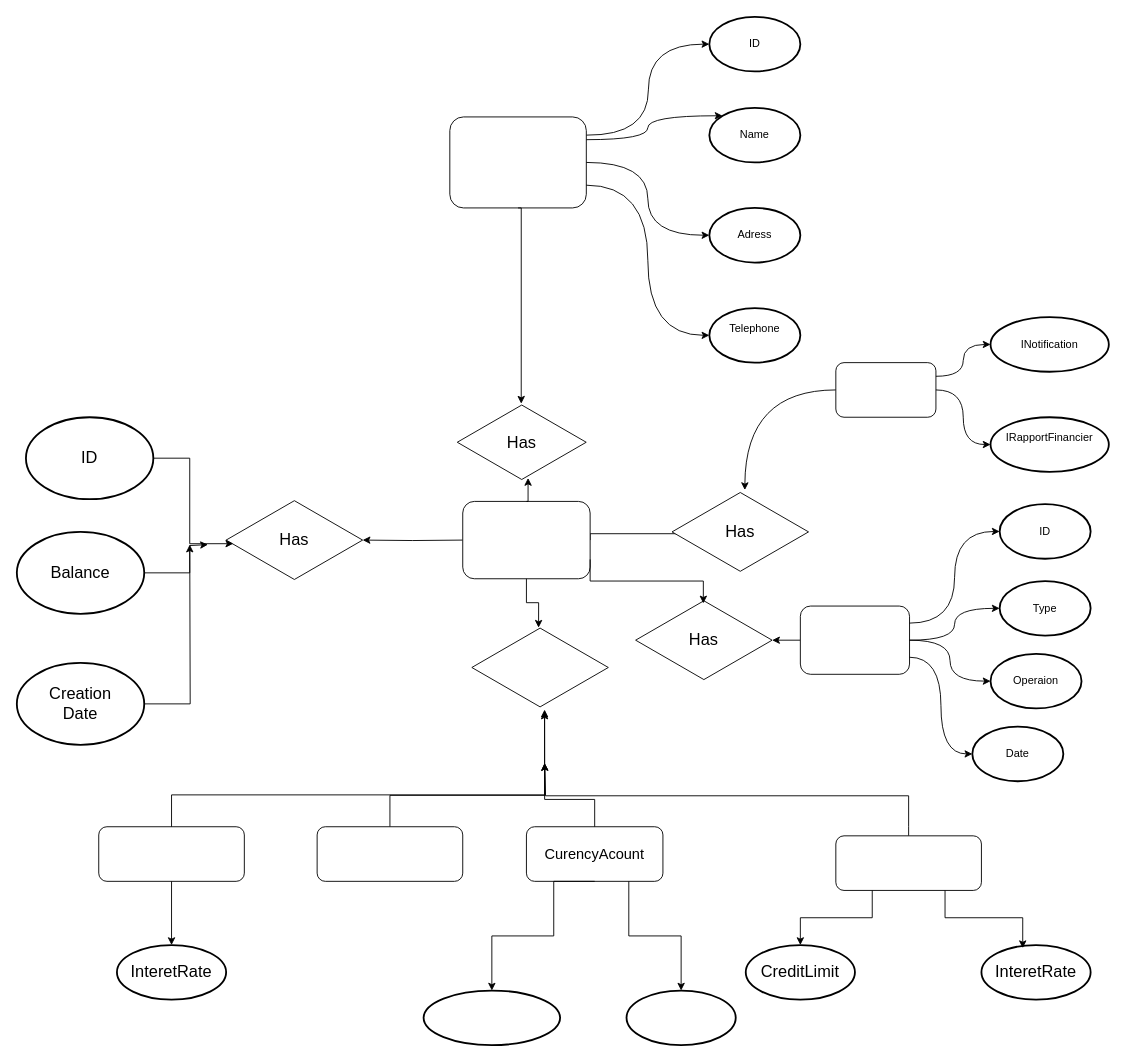
This 1125x1061 diagram has some shape labels left out. The shapes that lost their labels are listed below. From the top down, each one's centre as x and y in pixels, then its label:
the point at 517,162: Customer
the point at 885,389: IBankManager
the point at 526,539: Bankacount
the point at 854,639: TransactionRecord
the point at 539,667: Is
the point at 171,853: SevingAccount
the point at 389,853: CheckingAccount
the point at 908,862: CreditAccount
the point at 491,1017: ExchangeRate
the point at 680,1017: Currency
